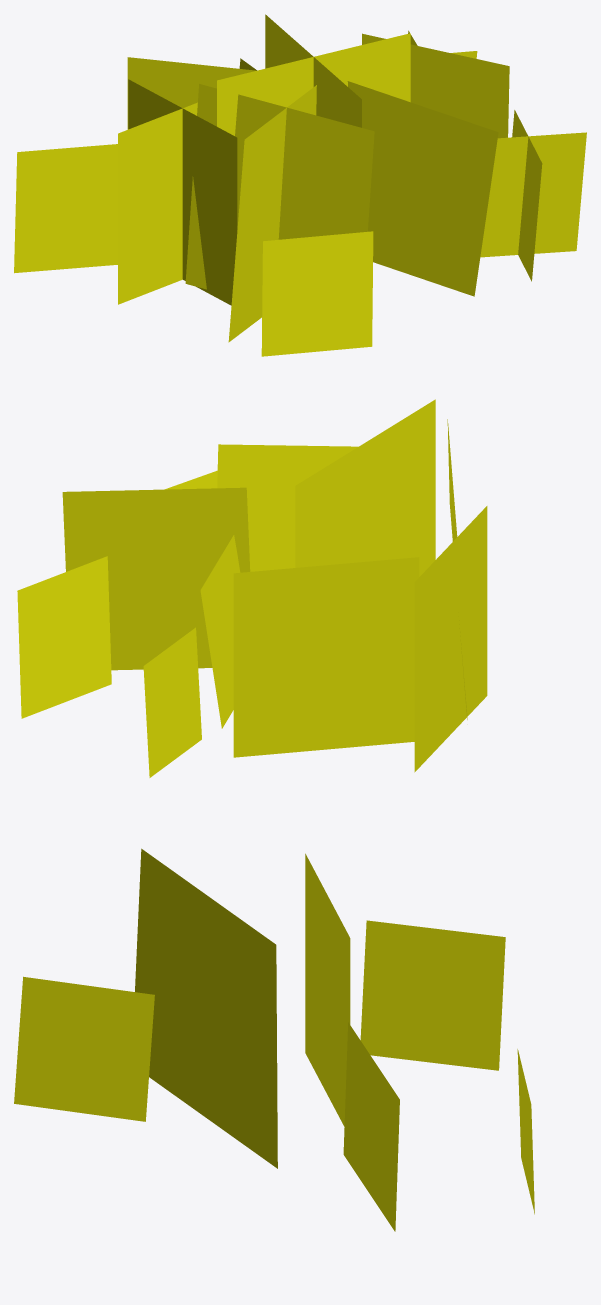
The model's file is grass_d.glb.
3 views of the same model, one above another, from view 1: azimuth 30°, elevation 25°; view 2: azimuth 150°, elevation 25°; view 3: azimuth 270°, elevation 25° (orthographic). The views are drawn at different scales.
Parts seen in each view (by area): view 1: Grass_F_02; view 2: Grass_F_02; view 3: Grass_F_02.
Boxes of the visible parts, x1=… form: Grass_F_02: x1=14, y1=14, x2=586, y2=356; Grass_F_02: x1=17, y1=399, x2=487, y2=777; Grass_F_02: x1=14, y1=848, x2=534, y2=1231.
Size of the model in its own units: 1.6 by 0.7567 by 1.47.
